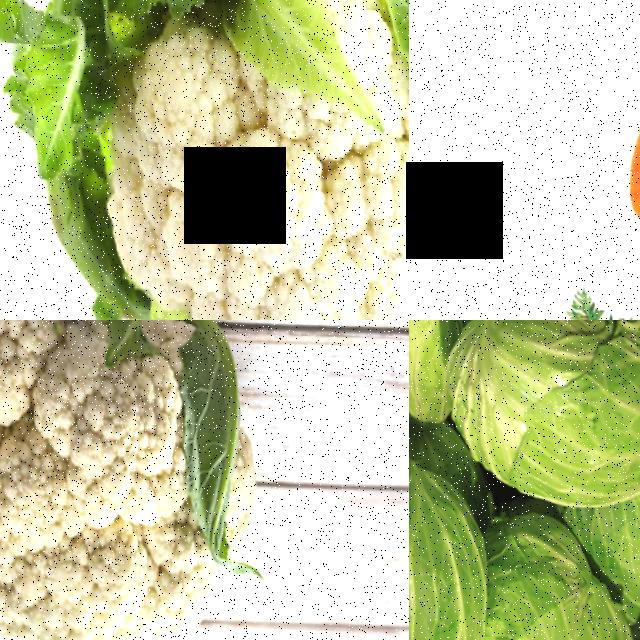cabbage: (441, 320, 640, 525), (473, 537, 630, 640), (409, 444, 485, 640)
carrot: (577, 0, 640, 243)
cauliflower: (2, 0, 409, 320), (0, 320, 325, 640)
